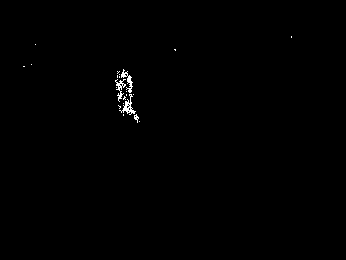person: (114, 69, 142, 125)
